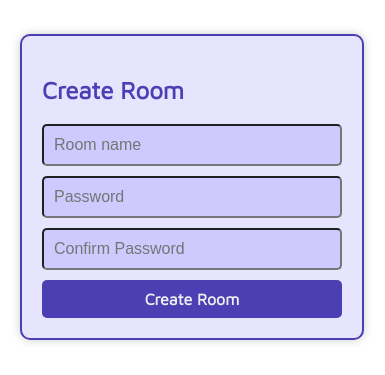
Scenario: CreateRoom Component › displays error message when passwords do not match
Step 1. Type "Test Room" into the field with placeholder "Room name" → (192,145), box [42, 124, 342, 166]
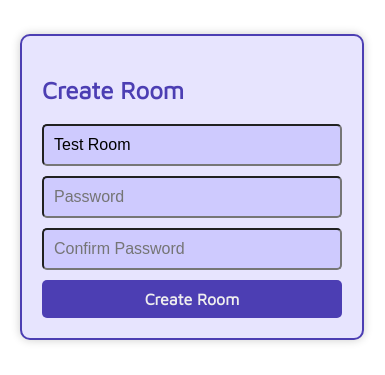
Step 2. Type "test123" into the password field with placeholder "Password" → (192,197), box [42, 176, 342, 218]
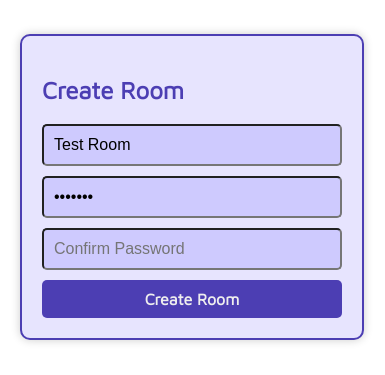
Step 3. Type "mismatch" into the password field with placeholder "Confirm Password" → (192,249), box [42, 228, 342, 270]
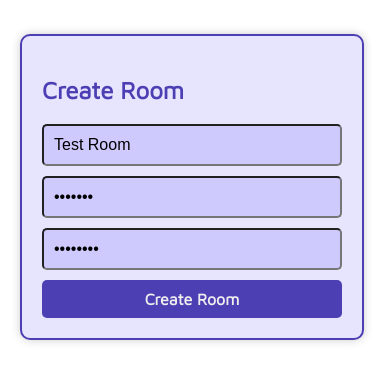
Step 4. Click the button → (192,299), box [42, 280, 342, 318]
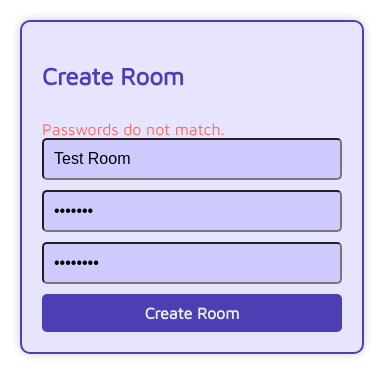
Expected: the text "Passwords do not match." is shown, [42, 120, 225, 138]
